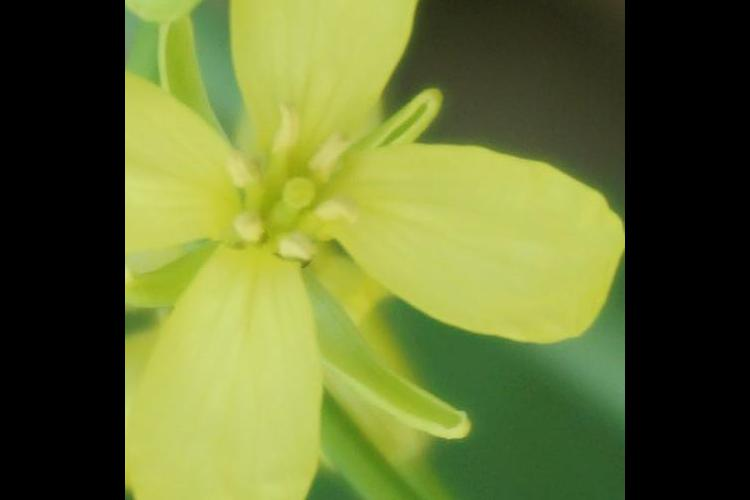bud: (135, 1, 216, 30)
